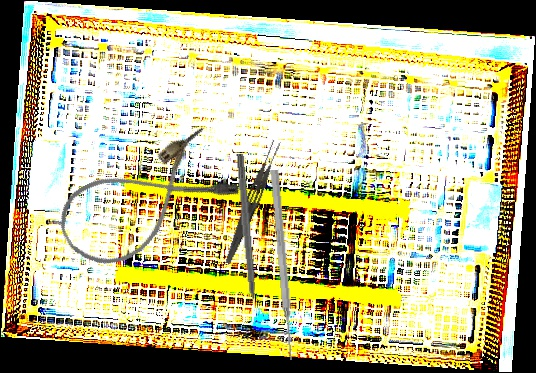Cannula: (47, 122, 244, 281)
Dressing Forceps: (222, 138, 284, 267)
Hook Surgical: (234, 153, 259, 319)
Pusher: (268, 169, 297, 361)
